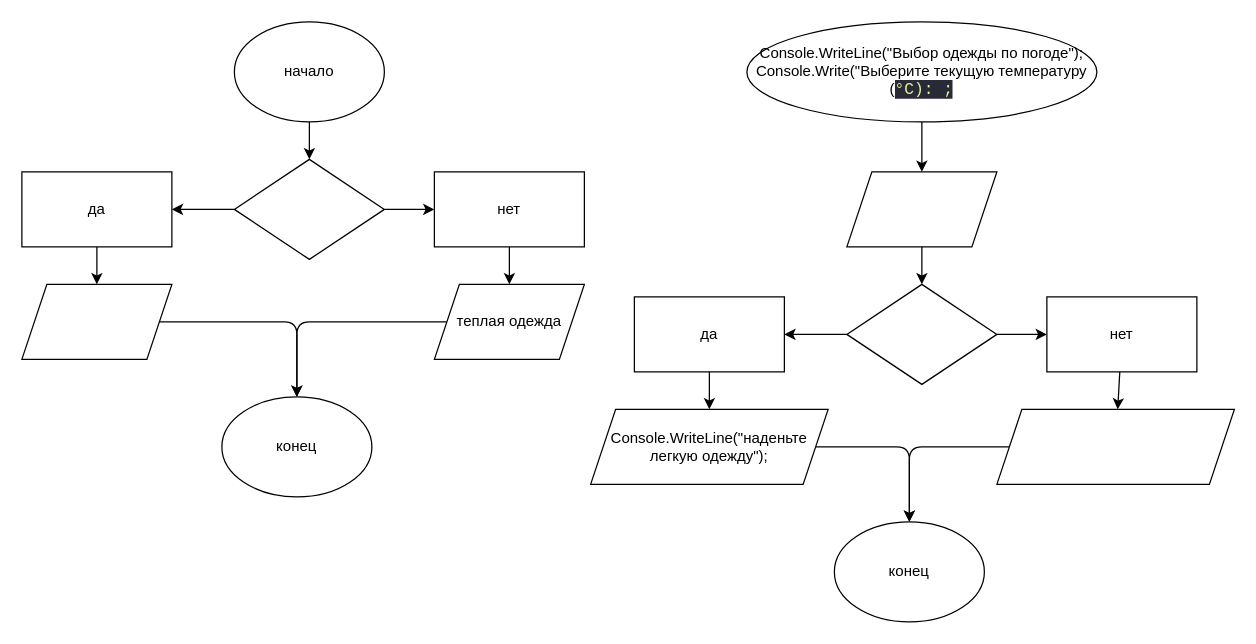
The diagram is 1256 pixels wide and 644 high, and some of its shapes have lost their labels. The shapes that lost their labels are listed below. From the top down, each one's centre as x and y in pixels, then its label:
(308,208): температура ≥ 20°C?
(921,209): int temperature = Convert . ToInt32 ( Console . ReadLine ());
(96,321): легкая одежда
(921,333): if (temperature >= 20)
(1115,446): Console.WriteLine("Наденьте теплую одежду");
